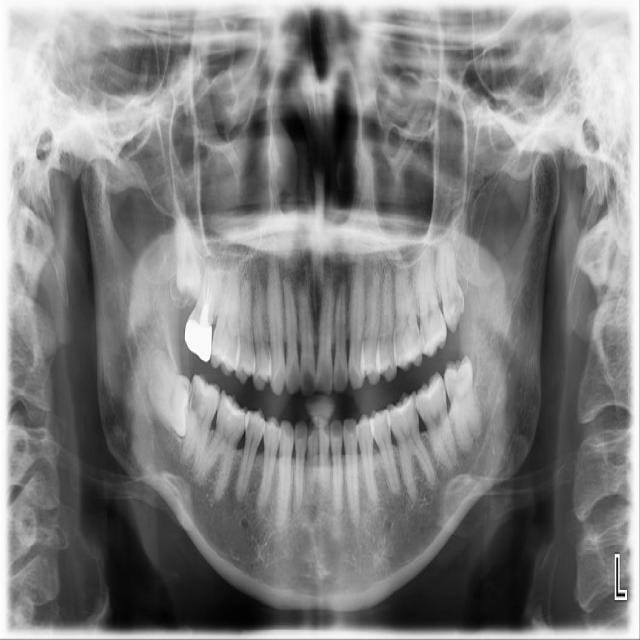Crown: (184, 310, 212, 362)
Filling: (190, 381, 203, 410)
Root Canal Treatment: (205, 261, 211, 299)
impacted tooth: (142, 347, 194, 435), (442, 359, 485, 452), (175, 207, 203, 297)
